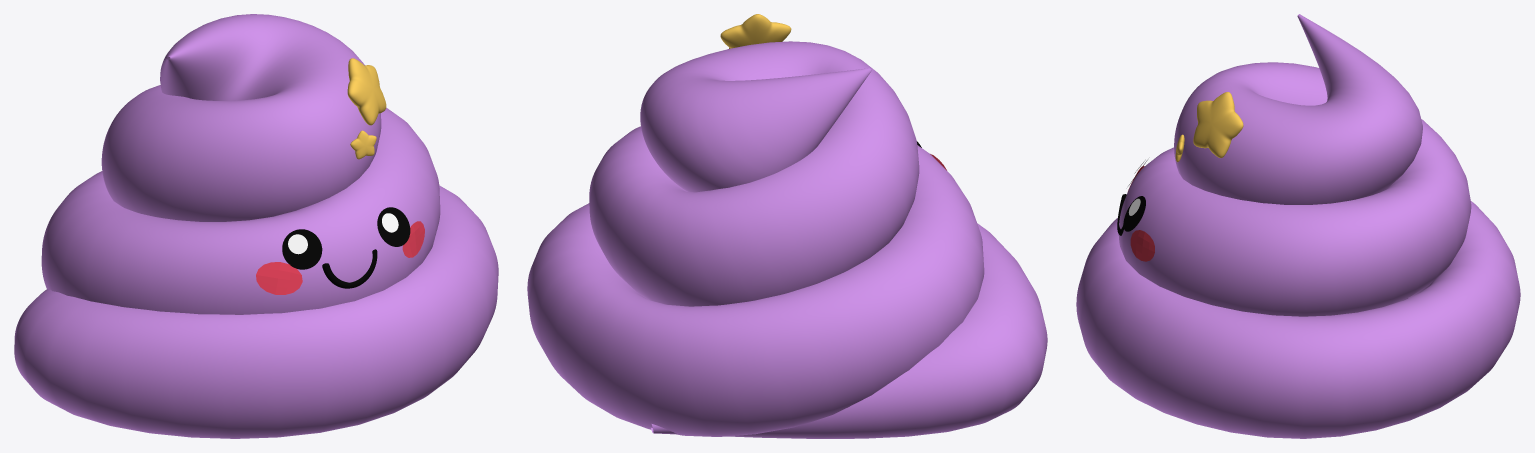
File: poopystars1.fbx
3 renders of one model, left to right at view 1: azimuth 30°, elevation 25°; view 2: azimuth 150°, elevation 25°; view 3: azimuth 270°, elevation 25°, orthographic. The views are drawn at different scales.
Visible parts, largest first — view 1: Spiral.002, Circle.013, Plane.008, Circle.008, Circle.009, Torus.004, Plane.007, Circle.012; view 2: Spiral.002, Circle.013; view 3: Spiral.002, Circle.013, Plane.007.
Part boxes in pixels (box(x1,y1,x2,y2)): Spiral.002: box(14, 14, 498, 438); Circle.013: box(347, 58, 386, 125); Plane.008: box(256, 262, 302, 294); Circle.008: box(282, 229, 322, 269); Circle.009: box(377, 207, 410, 246); Torus.004: box(322, 249, 377, 288); Plane.007: box(402, 221, 424, 257); Circle.012: box(350, 130, 376, 159); Spiral.002: box(527, 41, 1047, 438); Circle.013: box(720, 14, 791, 48); Spiral.002: box(1076, 14, 1520, 438); Circle.013: box(1193, 92, 1243, 157); Plane.007: box(1130, 230, 1154, 261).
Bounding box in the file's own units: 387 × 260 × 342.
